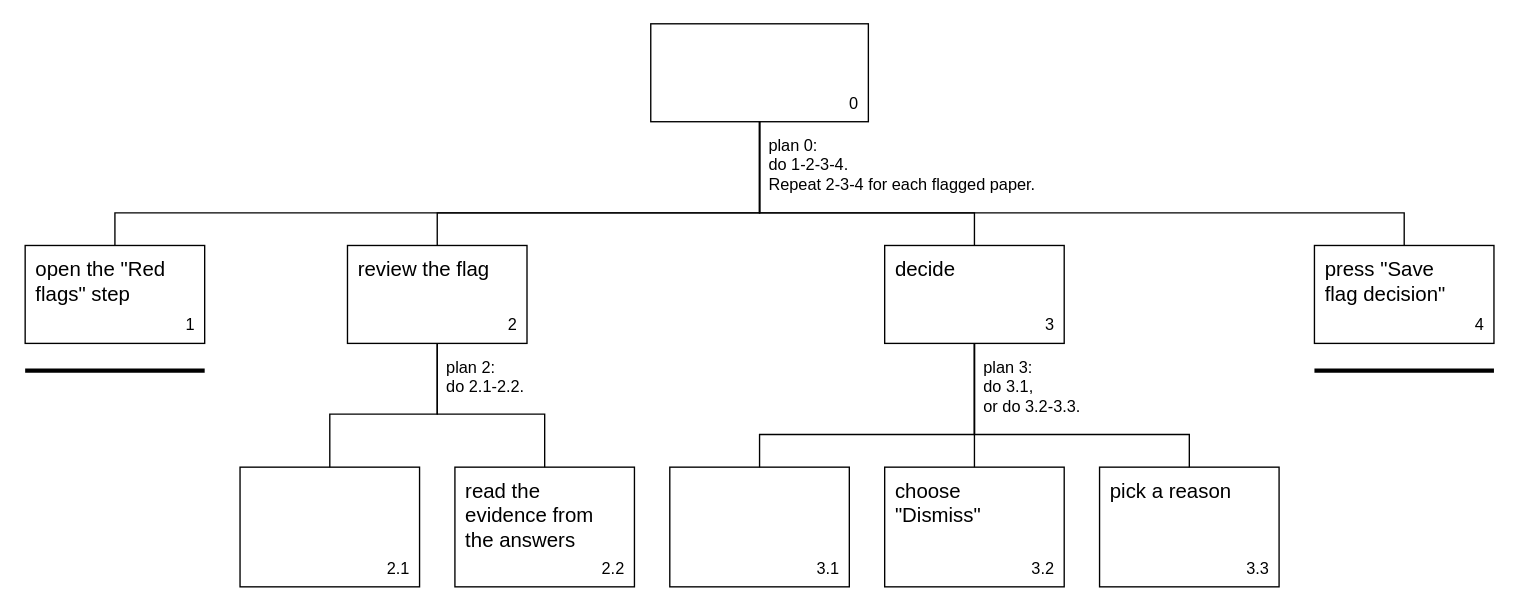
Some shapes in this 1520 by 611 pixel diagram are drawn without their labels. Each missing label, with the box of its shape:
choose "Confirm": (668, 466, 849, 587)
Confirm or dismiss a red flag: (649, 22, 868, 122)
read the skill and the confidence: (239, 466, 420, 587)
